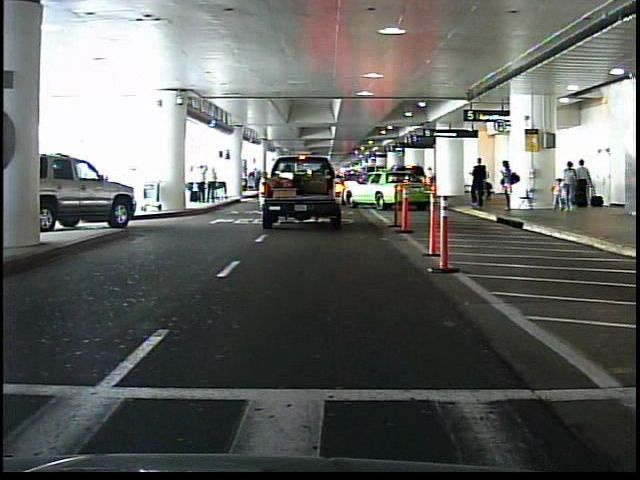person: (499, 155, 520, 215), (468, 154, 487, 209), (483, 159, 496, 206)
